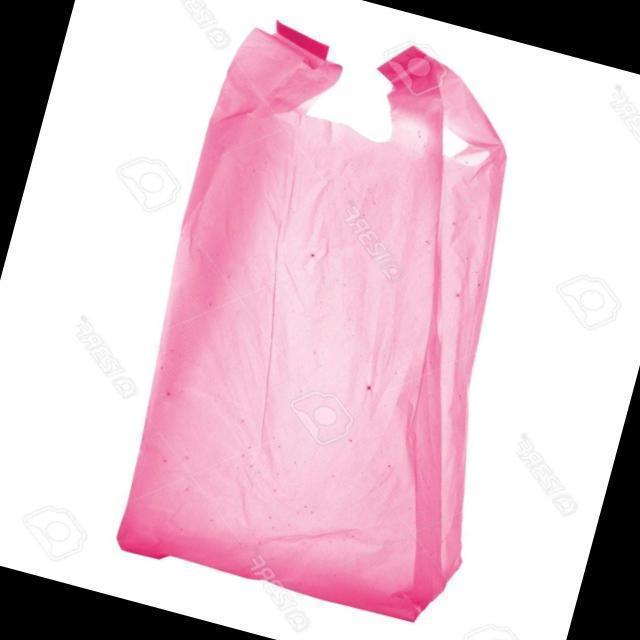Plastic_Bag: (84, 4, 590, 634)
